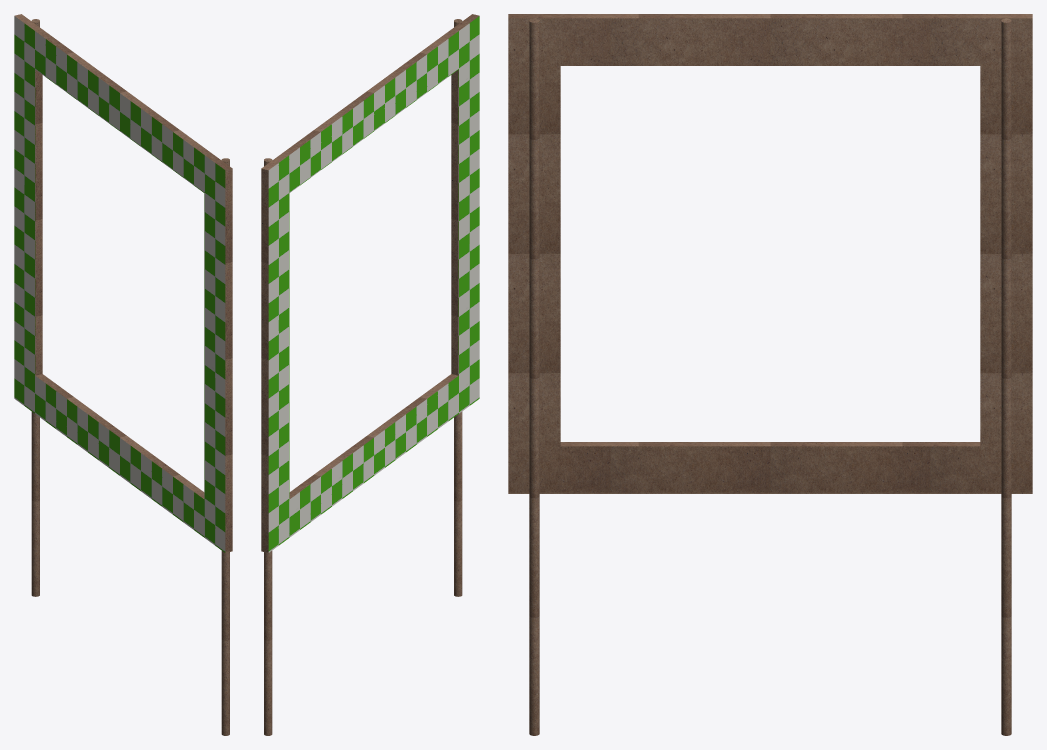
The model's file is gate_adjusted.dae.
3 views of the same model, side by side, from view 1: azimuth 30°, elevation 25°; view 2: azimuth 150°, elevation 25°; view 3: azimuth 270°, elevation 25° (orthographic). The views are drawn at different scales.
Visible parts, largest first — view 1: SketchUp.002, SketchUp, SketchUp.001; view 2: SketchUp.002, SketchUp, SketchUp.001; view 3: SketchUp, SketchUp.001.
Boxes of the visible parts, x1,y1,x2,y2 form: SketchUp.002: (14, 16, 225, 552); SketchUp: (14, 14, 232, 735); SketchUp.001: (35, 70, 204, 498); SketchUp.002: (268, 16, 479, 552); SketchUp: (261, 14, 479, 735); SketchUp.001: (289, 70, 458, 498); SketchUp: (508, 14, 1032, 735); SketchUp.001: (560, 442, 980, 446).
Bounding box in the file's own units: 0.04 × 1 × 1.5.
2 materials, 2 textured.
